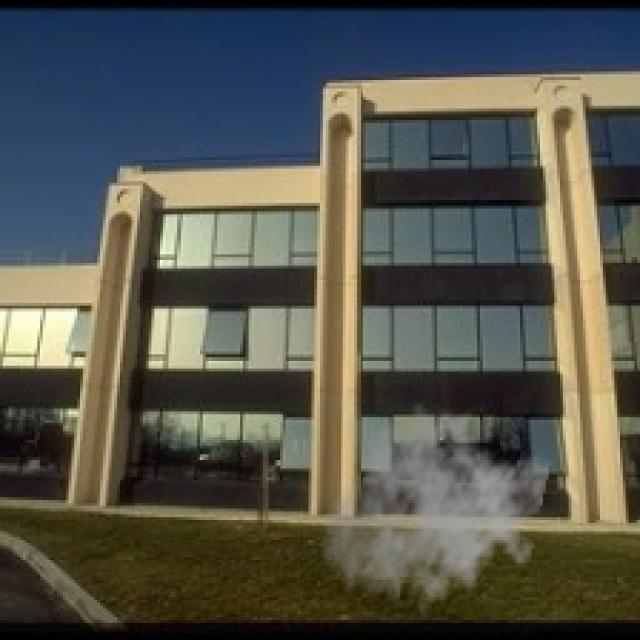smoke: (320, 400, 551, 626)
